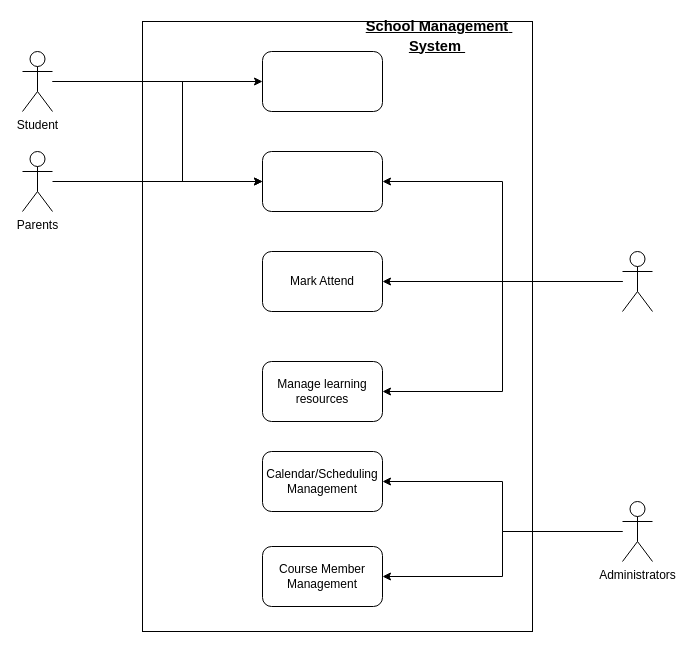
The diagram is 693 pixels wide and 649 high, and some of its shapes have lost their labels. Each missing label, with the centre of its shape:
"Check Attendace" belongs at pixel 322 181.
"Looking for learning resources" belongs at pixel 322 81.
"Teachers" belongs at pixel 637 281.
